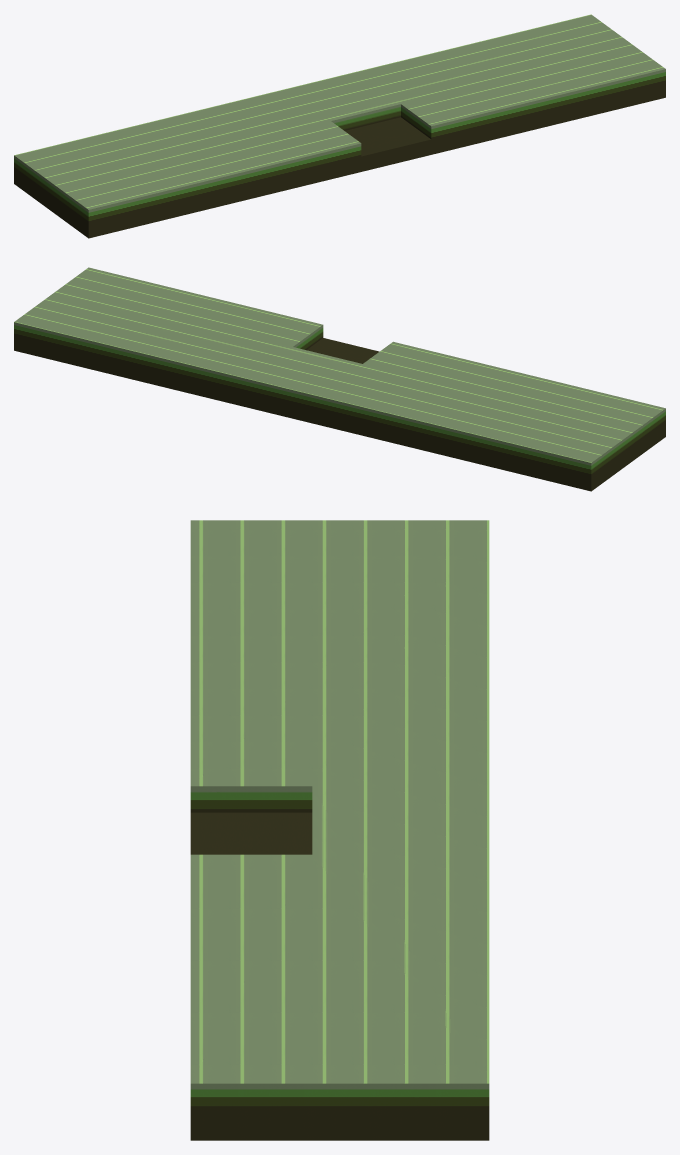
File: puzzle003_floor_fbx.fbx
3 views of the same model, one above another, from view 1: azimuth 30°, elevation 25°; view 2: azimuth 150°, elevation 25°; view 3: azimuth 270°, elevation 25° (orthographic). The views are drawn at different scales.
Parts seen in each view (by area): view 1: puzzle003_floor; view 2: puzzle003_floor; view 3: puzzle003_floor.
Boxes of the visible parts, <box> form: puzzle003_floor: <box>14,14,665,238</box>; puzzle003_floor: <box>14,267,665,491</box>; puzzle003_floor: <box>190,520,489,1140</box>.
Size of the model in its own units: 846 by 40 by 189.
